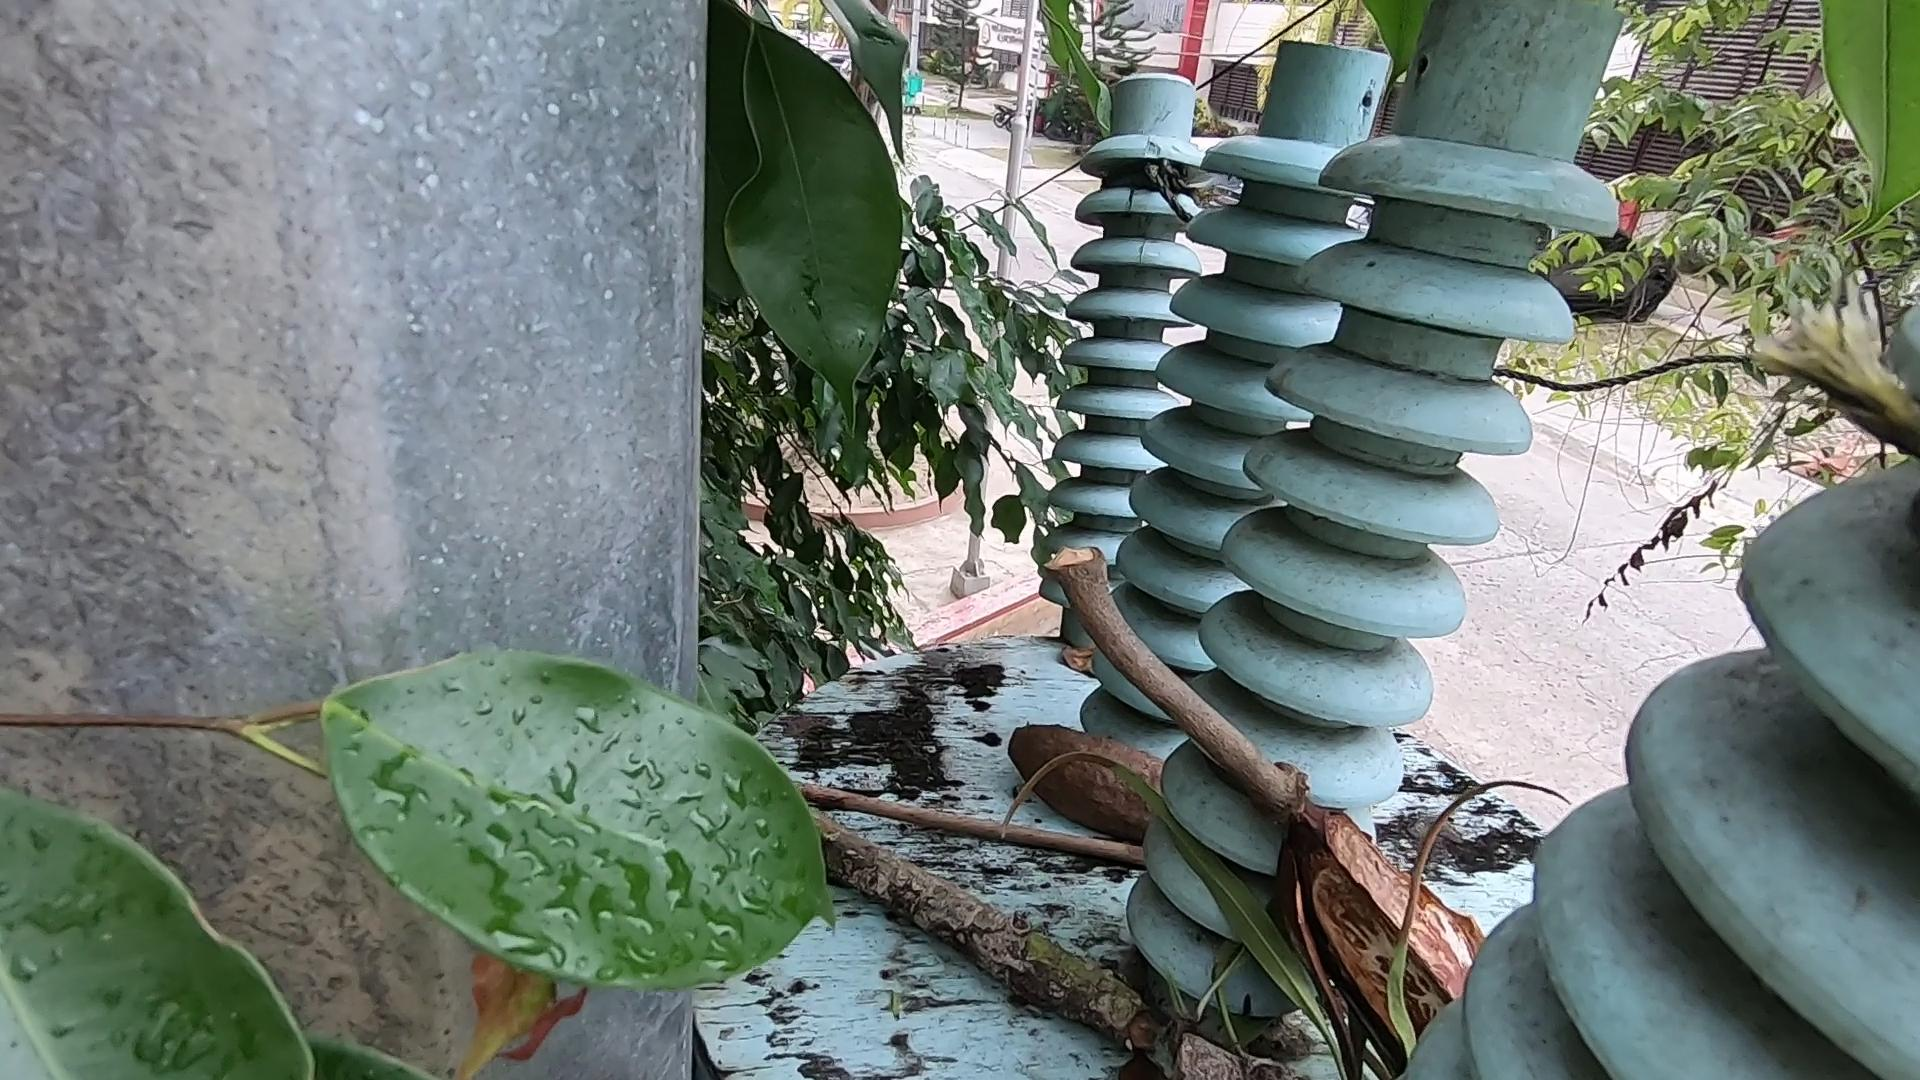leaf: (996, 613, 1185, 711)
mahogany fruit: (1255, 765, 1466, 1080), (996, 709, 1207, 887)
tree branch: (742, 744, 1412, 1069), (1029, 534, 1309, 807), (778, 735, 1139, 872)
